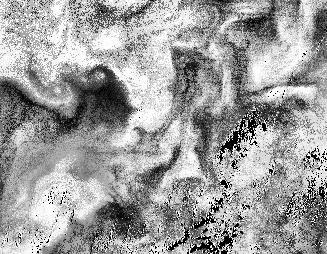CE: (43, 75, 74, 108)
